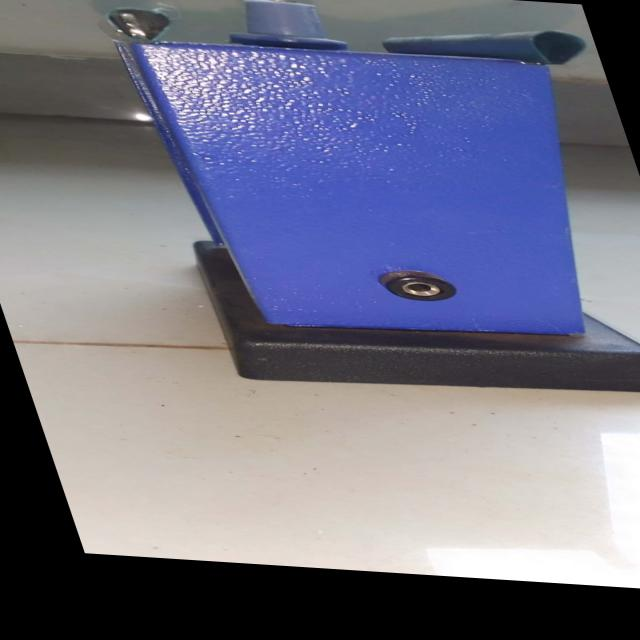Electroscope: (46, 0, 640, 421)
